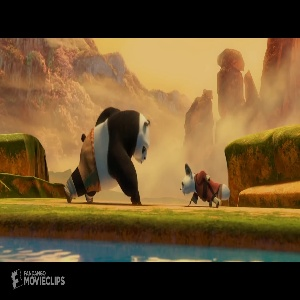po: (60, 103, 152, 208)
shifu: (178, 163, 232, 210)
